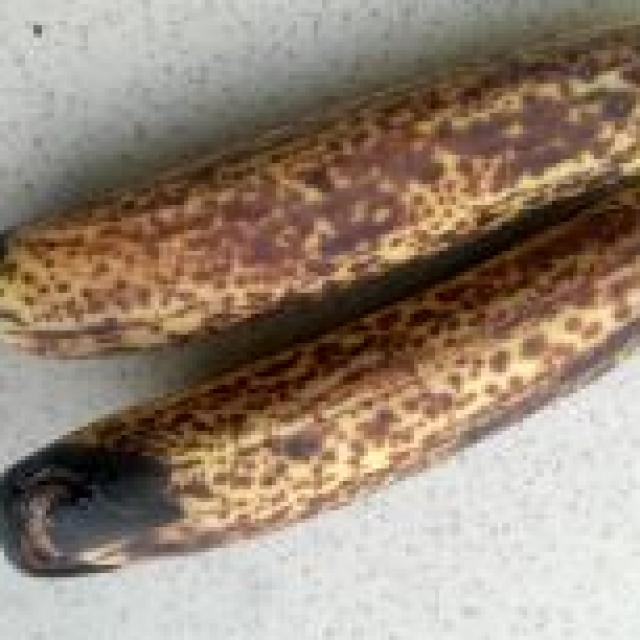Bad_Banana-0 day: (0, 30, 640, 574)
